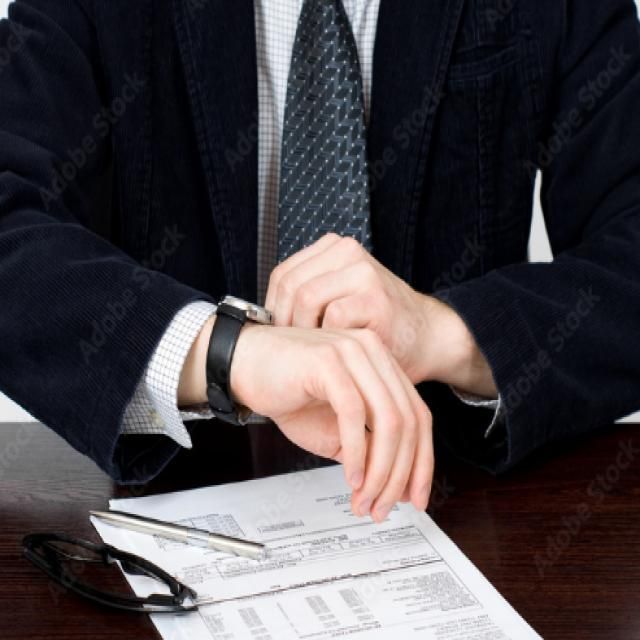Watch: (204, 288, 270, 426)
